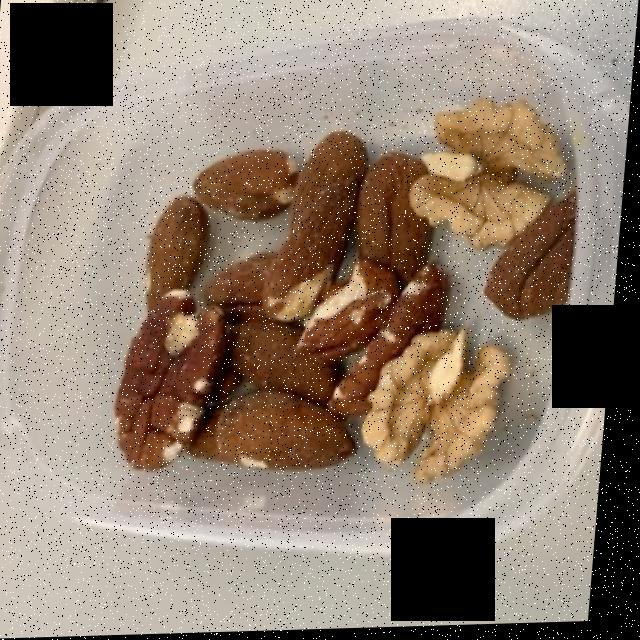nuts: (123, 104, 586, 471)
